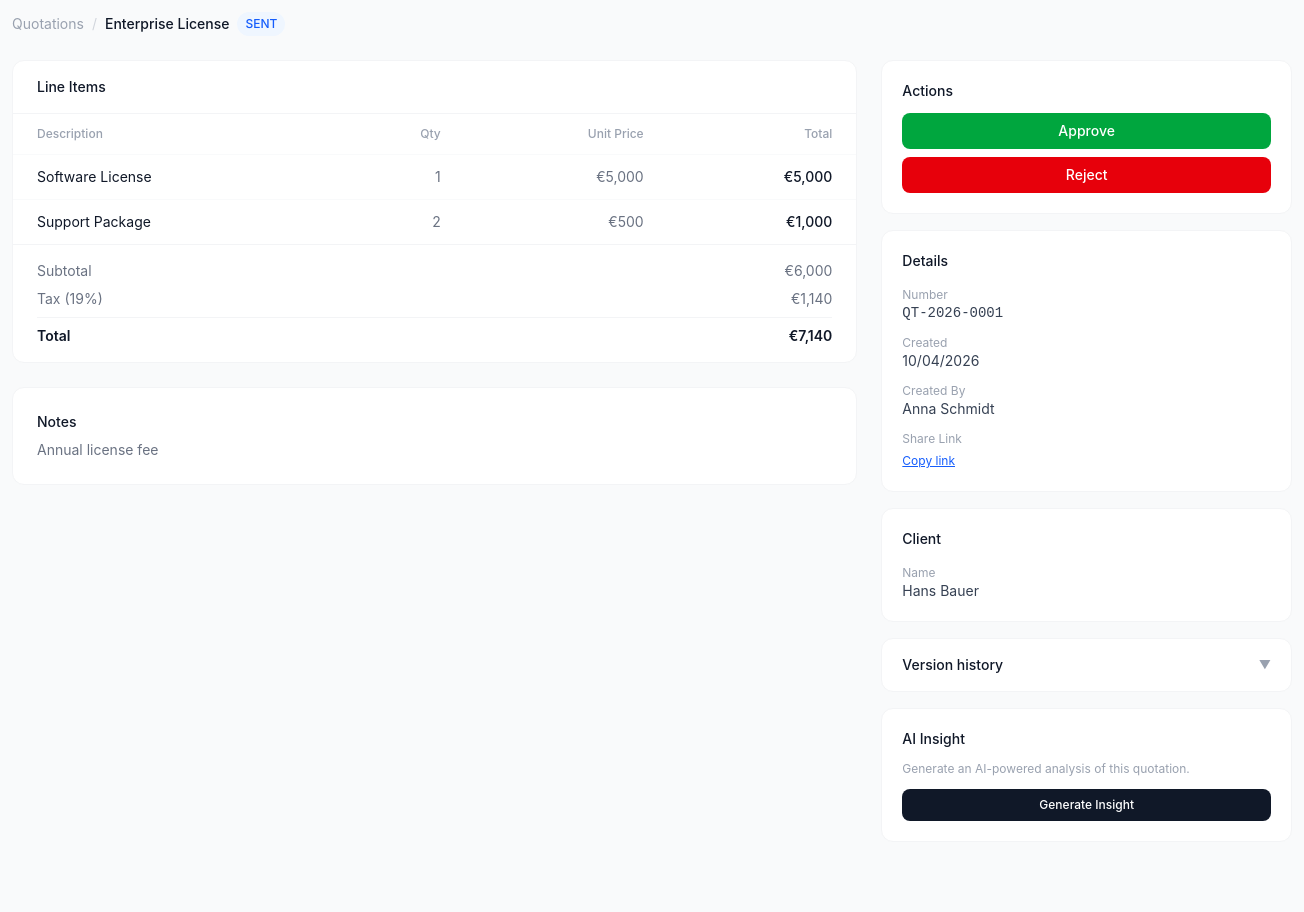
it: QuotationDetailPage › StatusActions › shows toast after manager rejects
The width and height of the screenshot is (1304, 912).
Step 1. Click the button "Reject" → (1087, 175), box 902,157 -> 1271,193
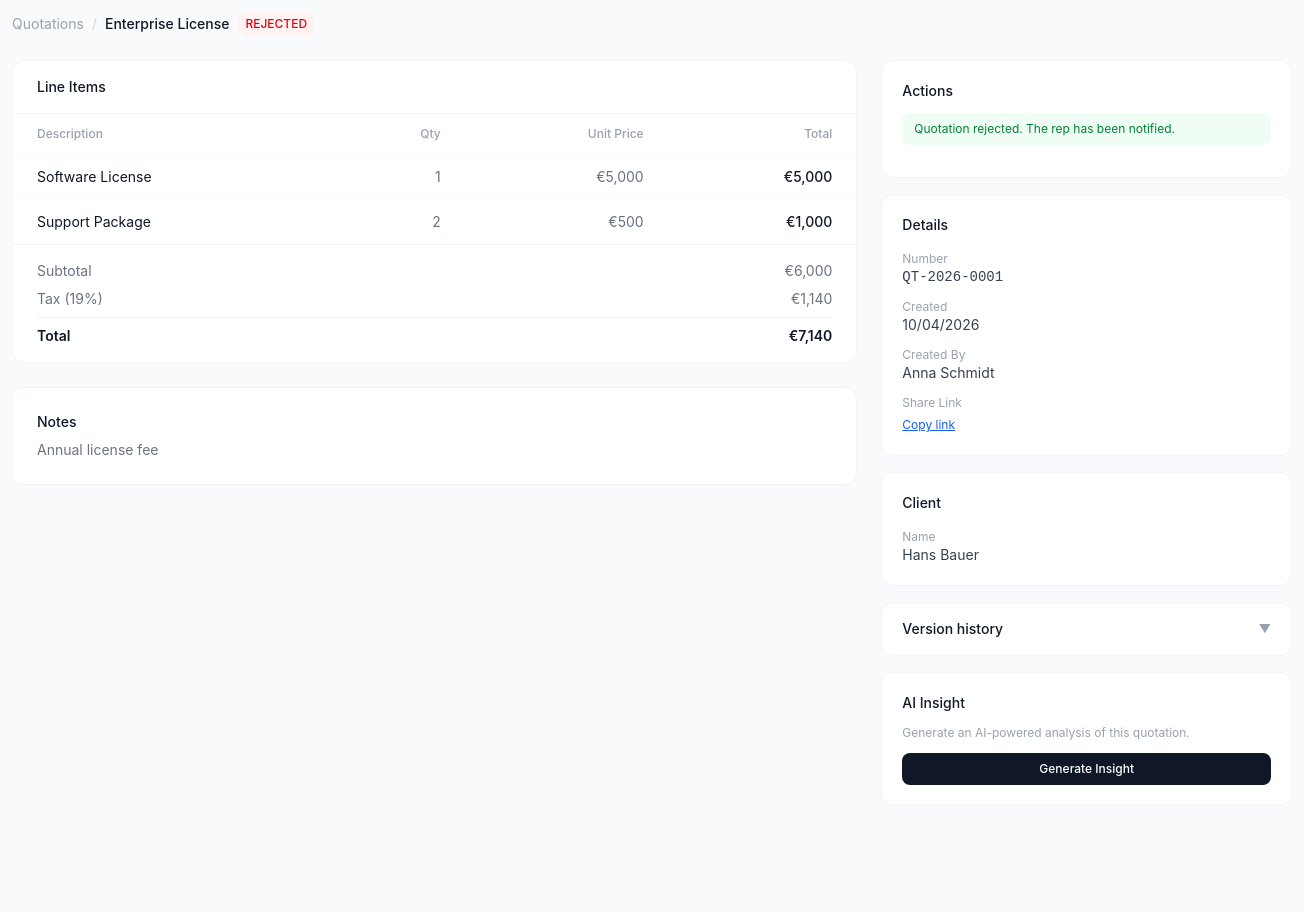
Expected: the text "Quotation rejected. The rep has been notified." is shown, 902,113 -> 1271,145
